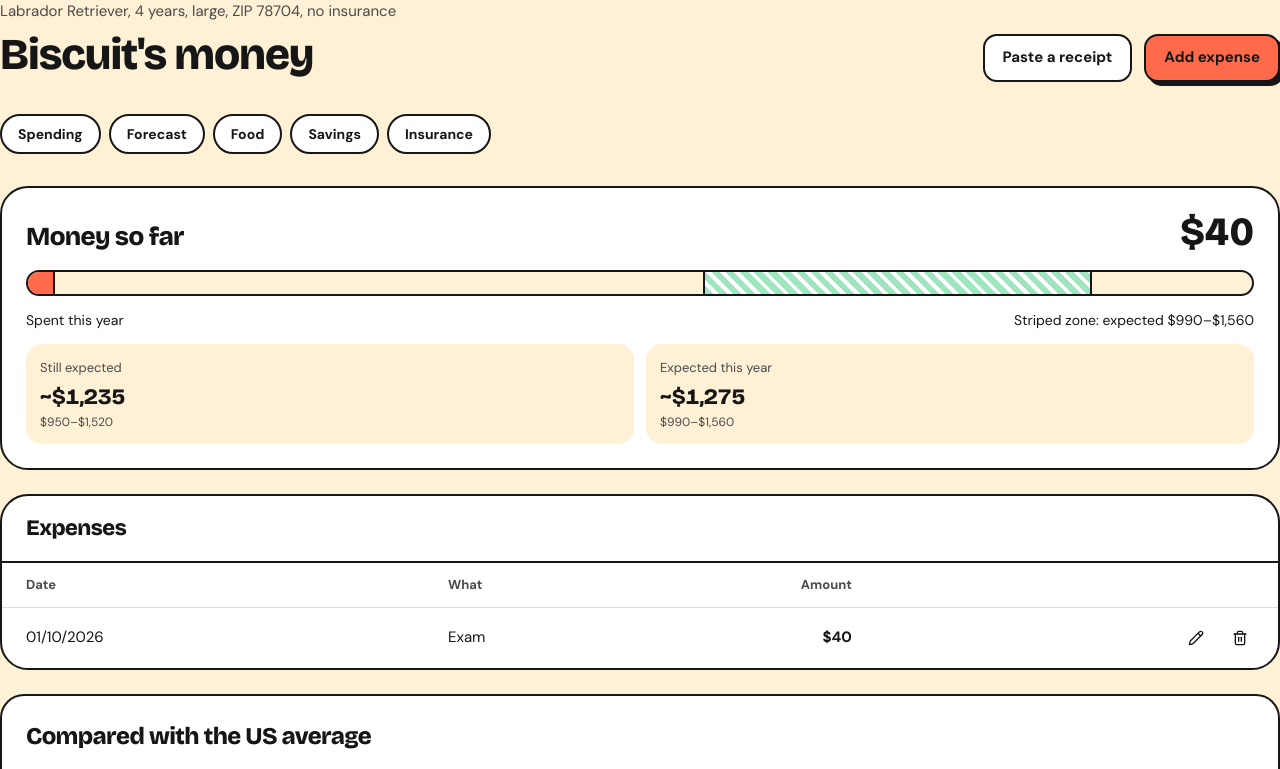
it: MoneyPage expense rows › deletes an expense after confirming
This screenshot has width=1280, height=769.
What coordinates should you click on to do the following:
click the button named "delete exam, 01/10/2026"
I would click on:
 (1240, 638)
Its box is top-left (1218, 616), bottom-right (1262, 660).
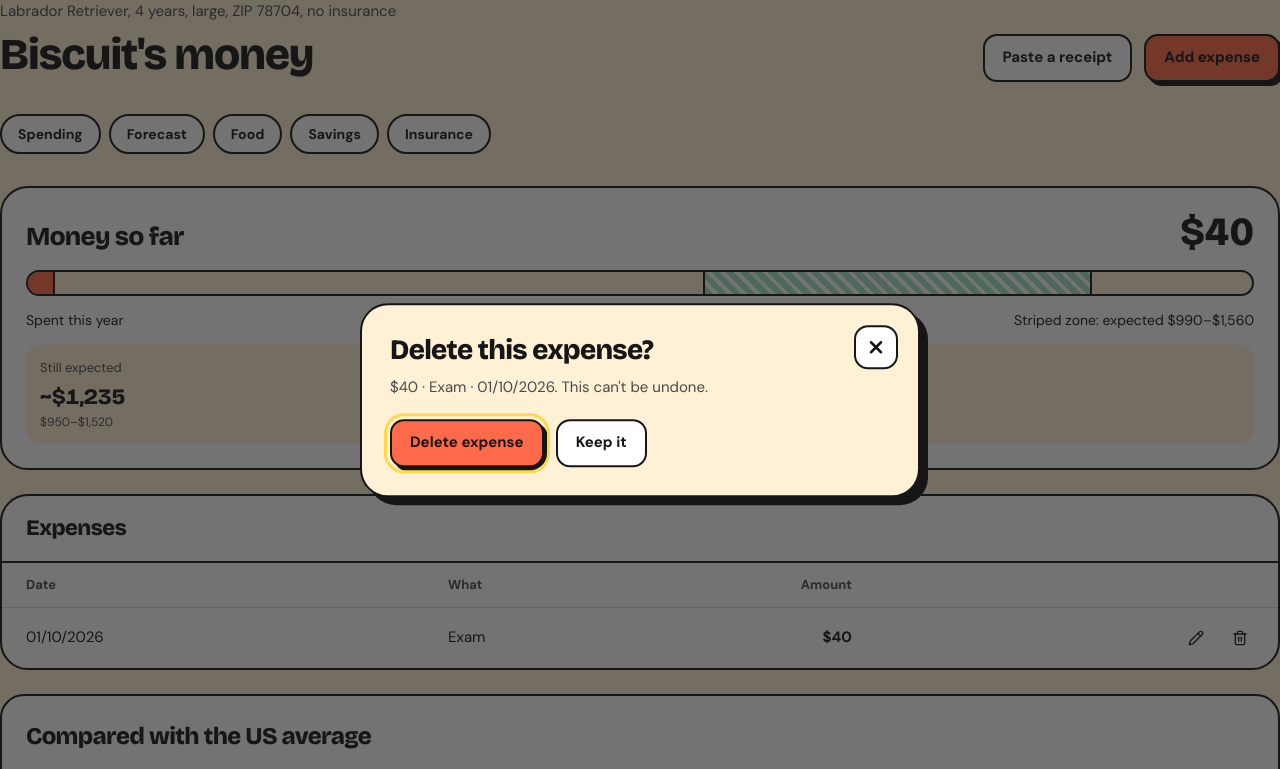
What coordinates should you click on to do the following:
click the button "Delete expense"
I would click on:
 (467, 443)
Its box is top-left (390, 419), bottom-right (544, 467).
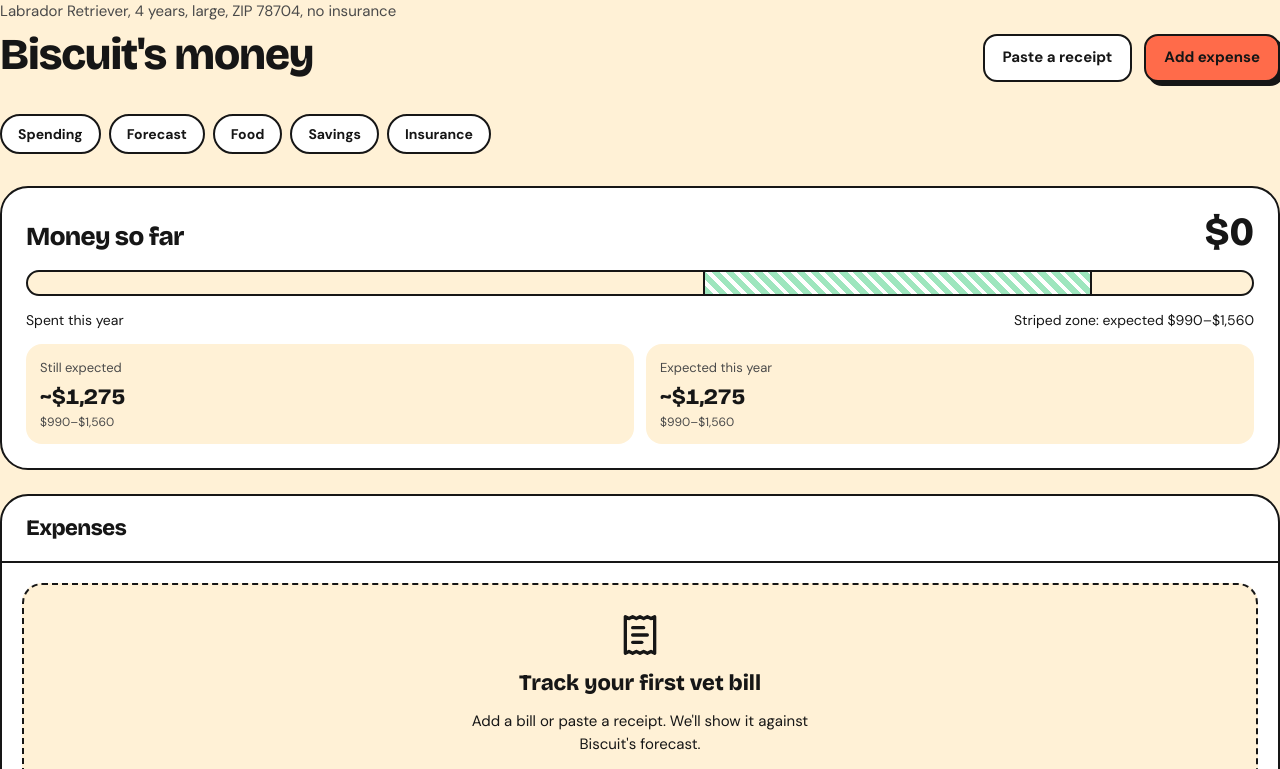
Now the text "Track your first vet bill" is shown, box top-left (519, 667), bottom-right (761, 700)
